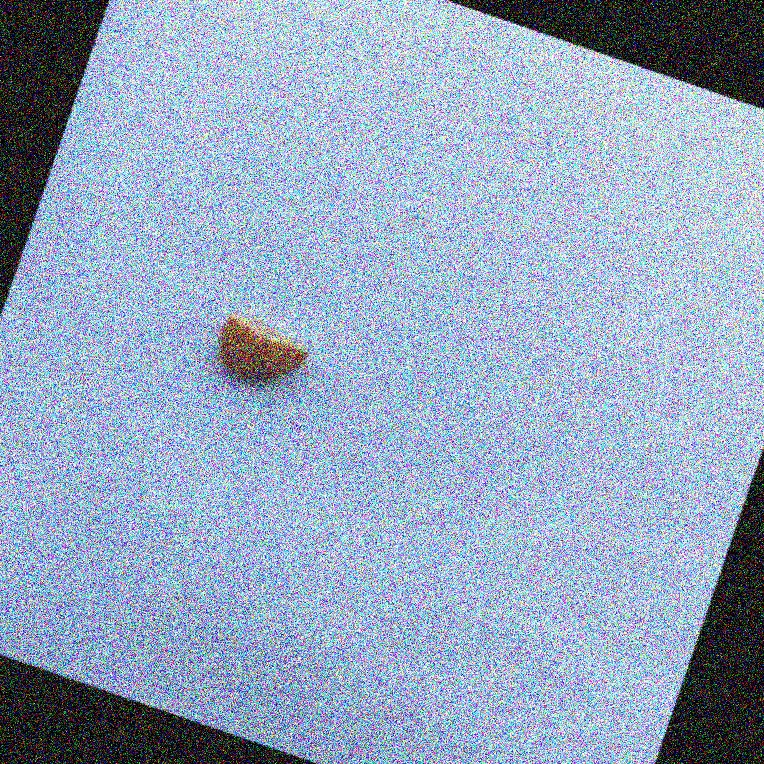grade4: (199, 301, 326, 407)
